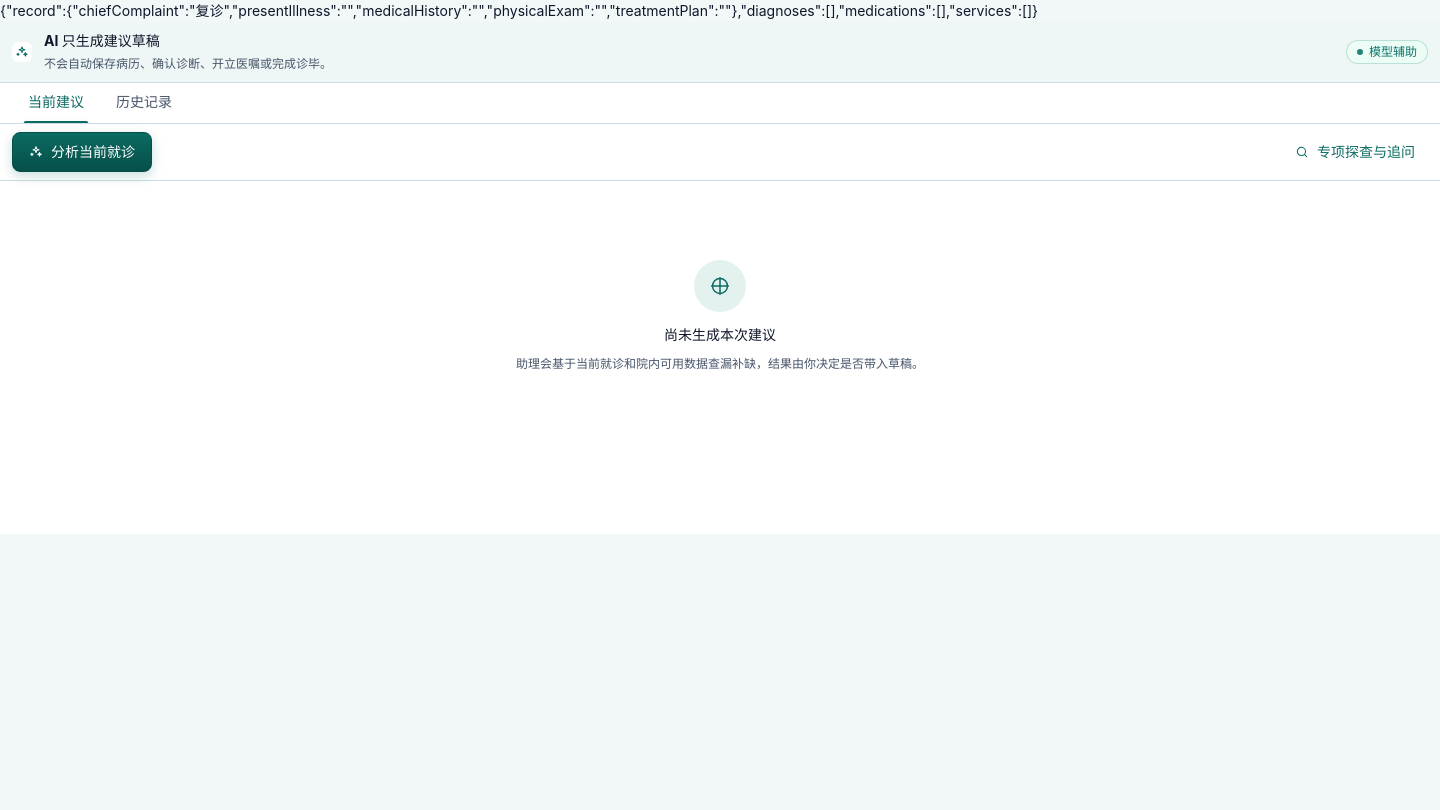
Test: AI assistant plan adoption with the real editor preparation boundary › uses current catalog facts and commits the full selection only after the audit request succeeds
Step 1. Click the button "分析当前就诊" → (82, 152), box [12,132,152,172]
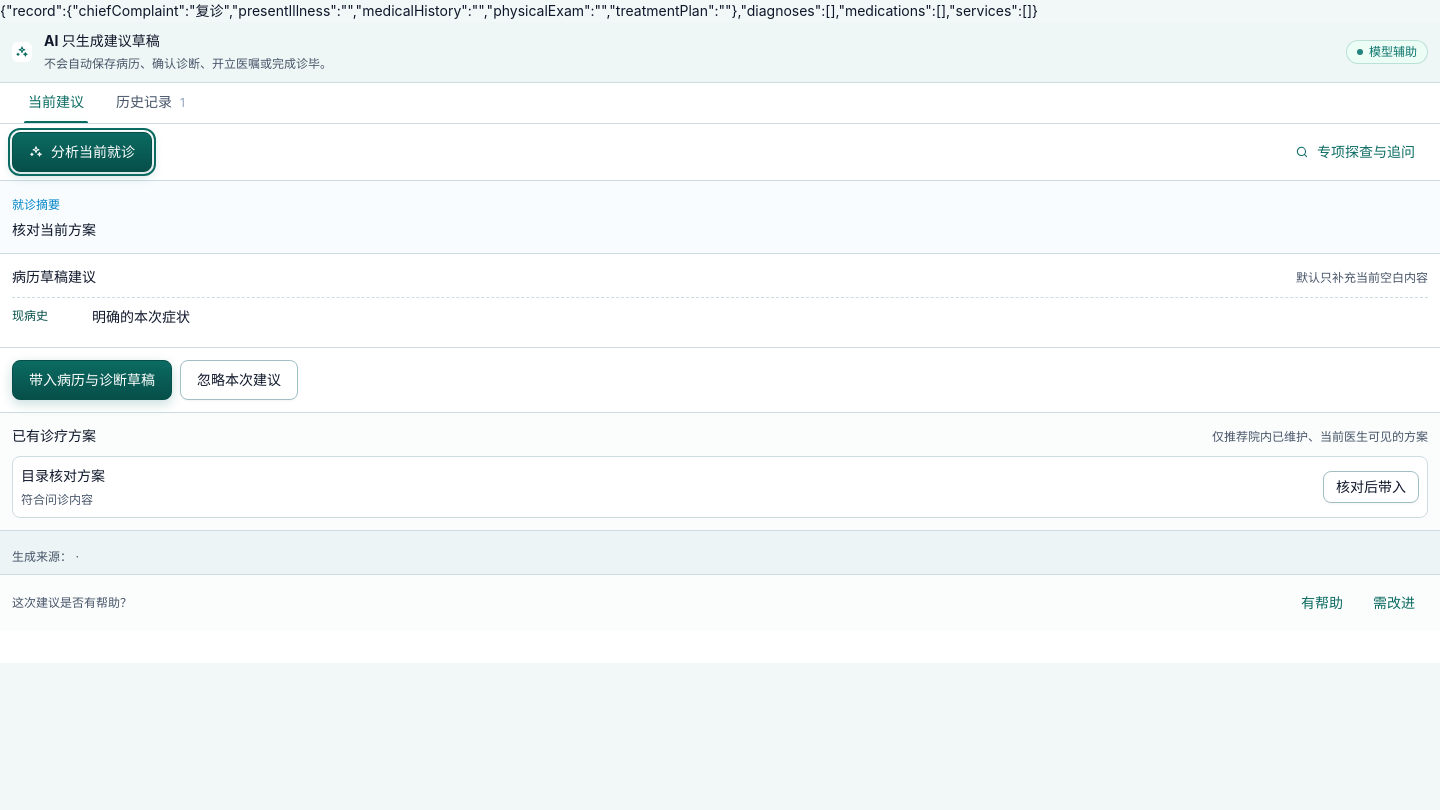
Step 2. Click the button "核对后带入" → (1371, 487), box [1323,471,1419,503]
(page scrolled)
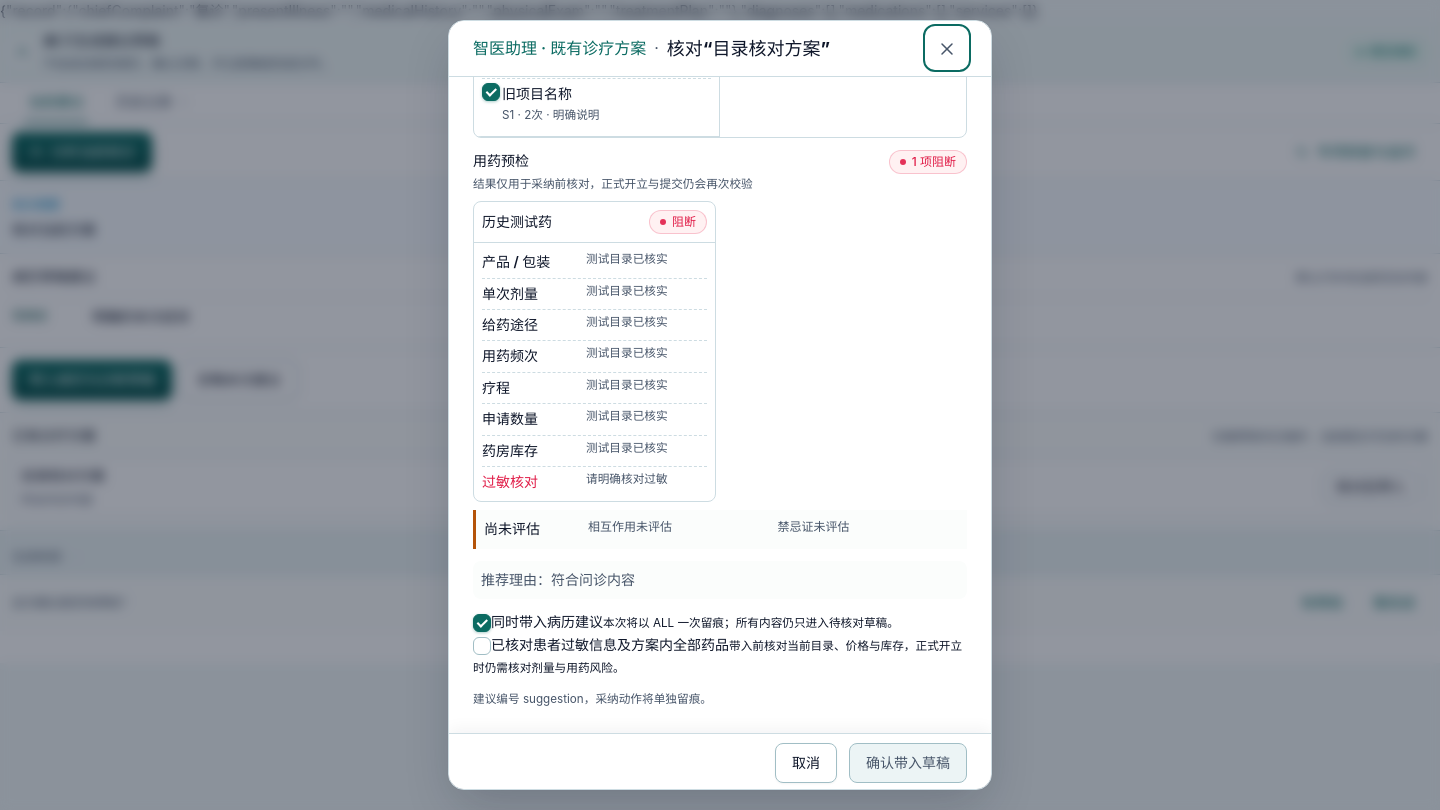
Step 3. Click the 3rd checkbox → (482, 646), box [473,637,491,655]
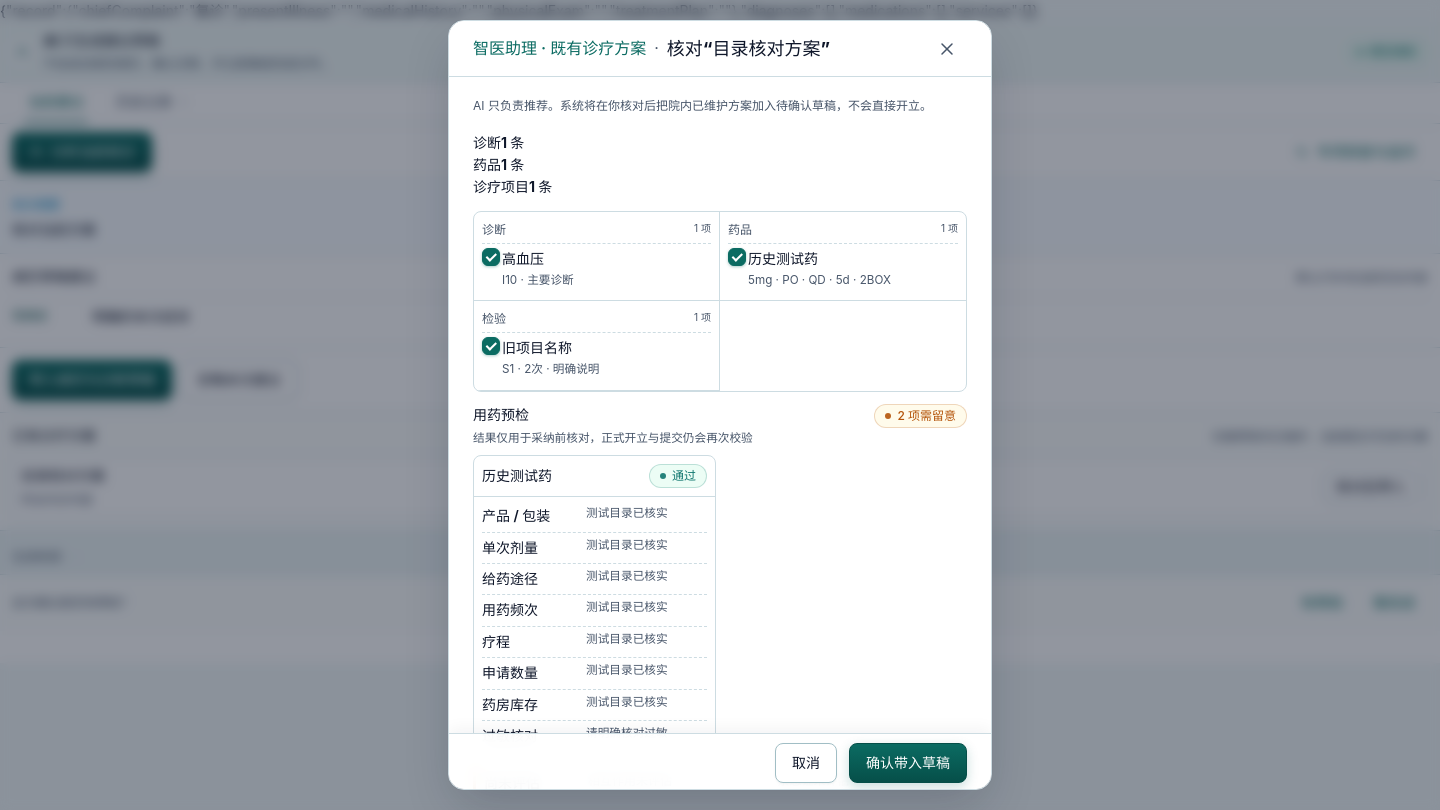
Step 4. Click the button "确认带入草稿" → (908, 764), box [849,744,967,784]
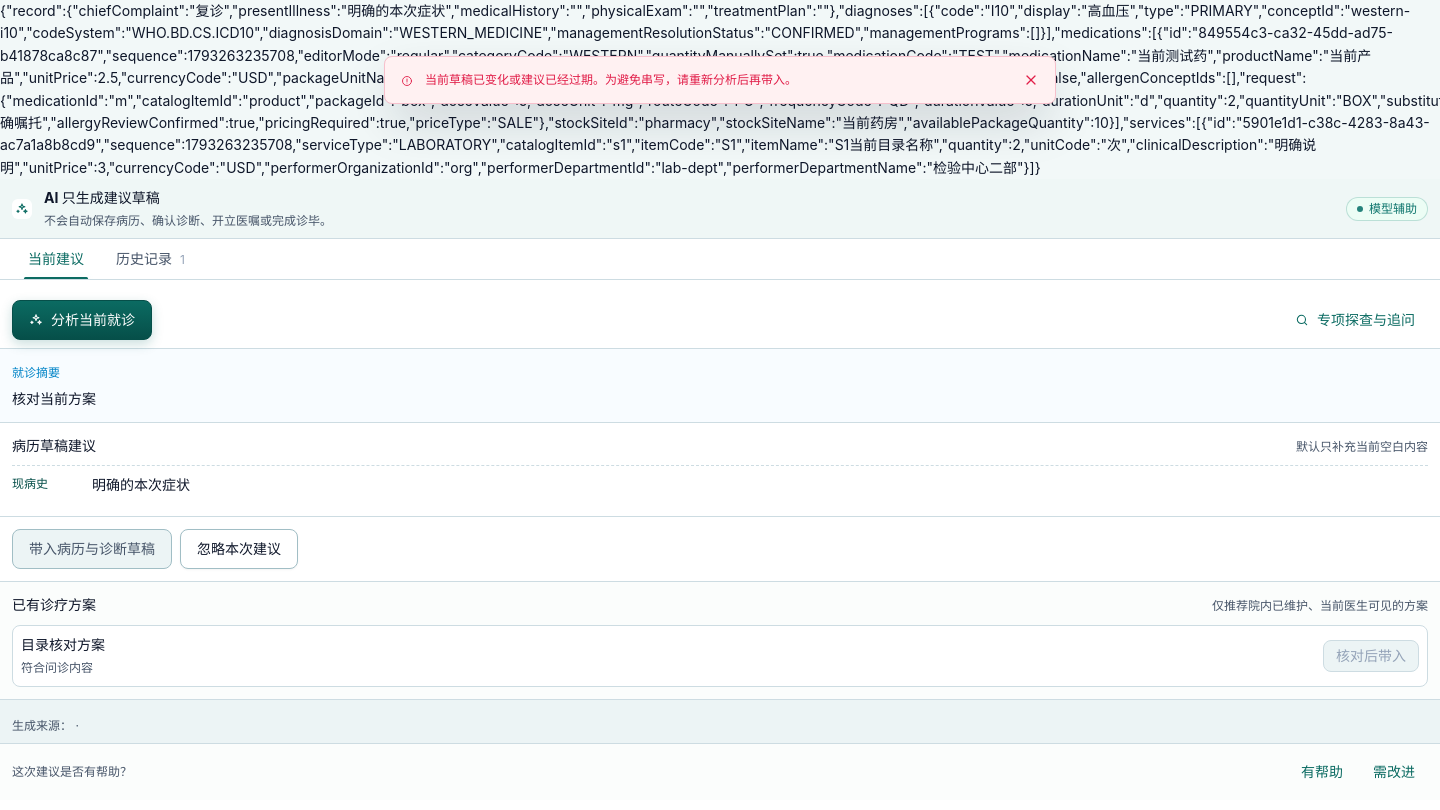
Check: the dialog is gone
